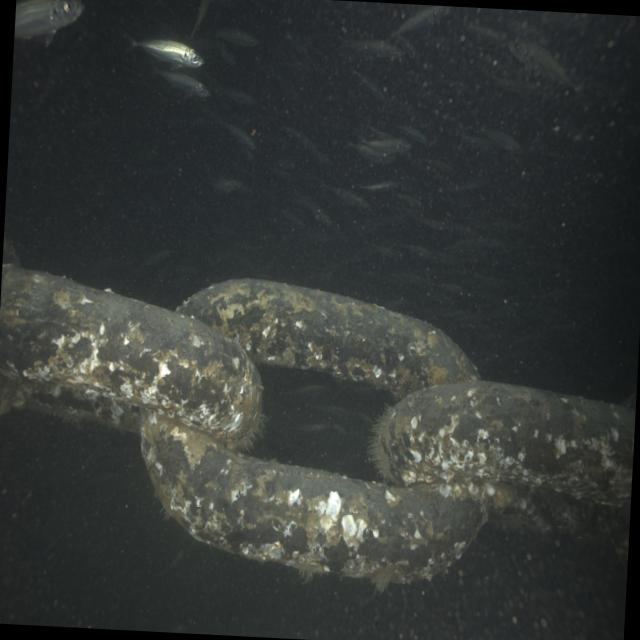ChainLink: (142, 414, 487, 584), (0, 266, 261, 446), (178, 279, 480, 397), (376, 381, 635, 505)
